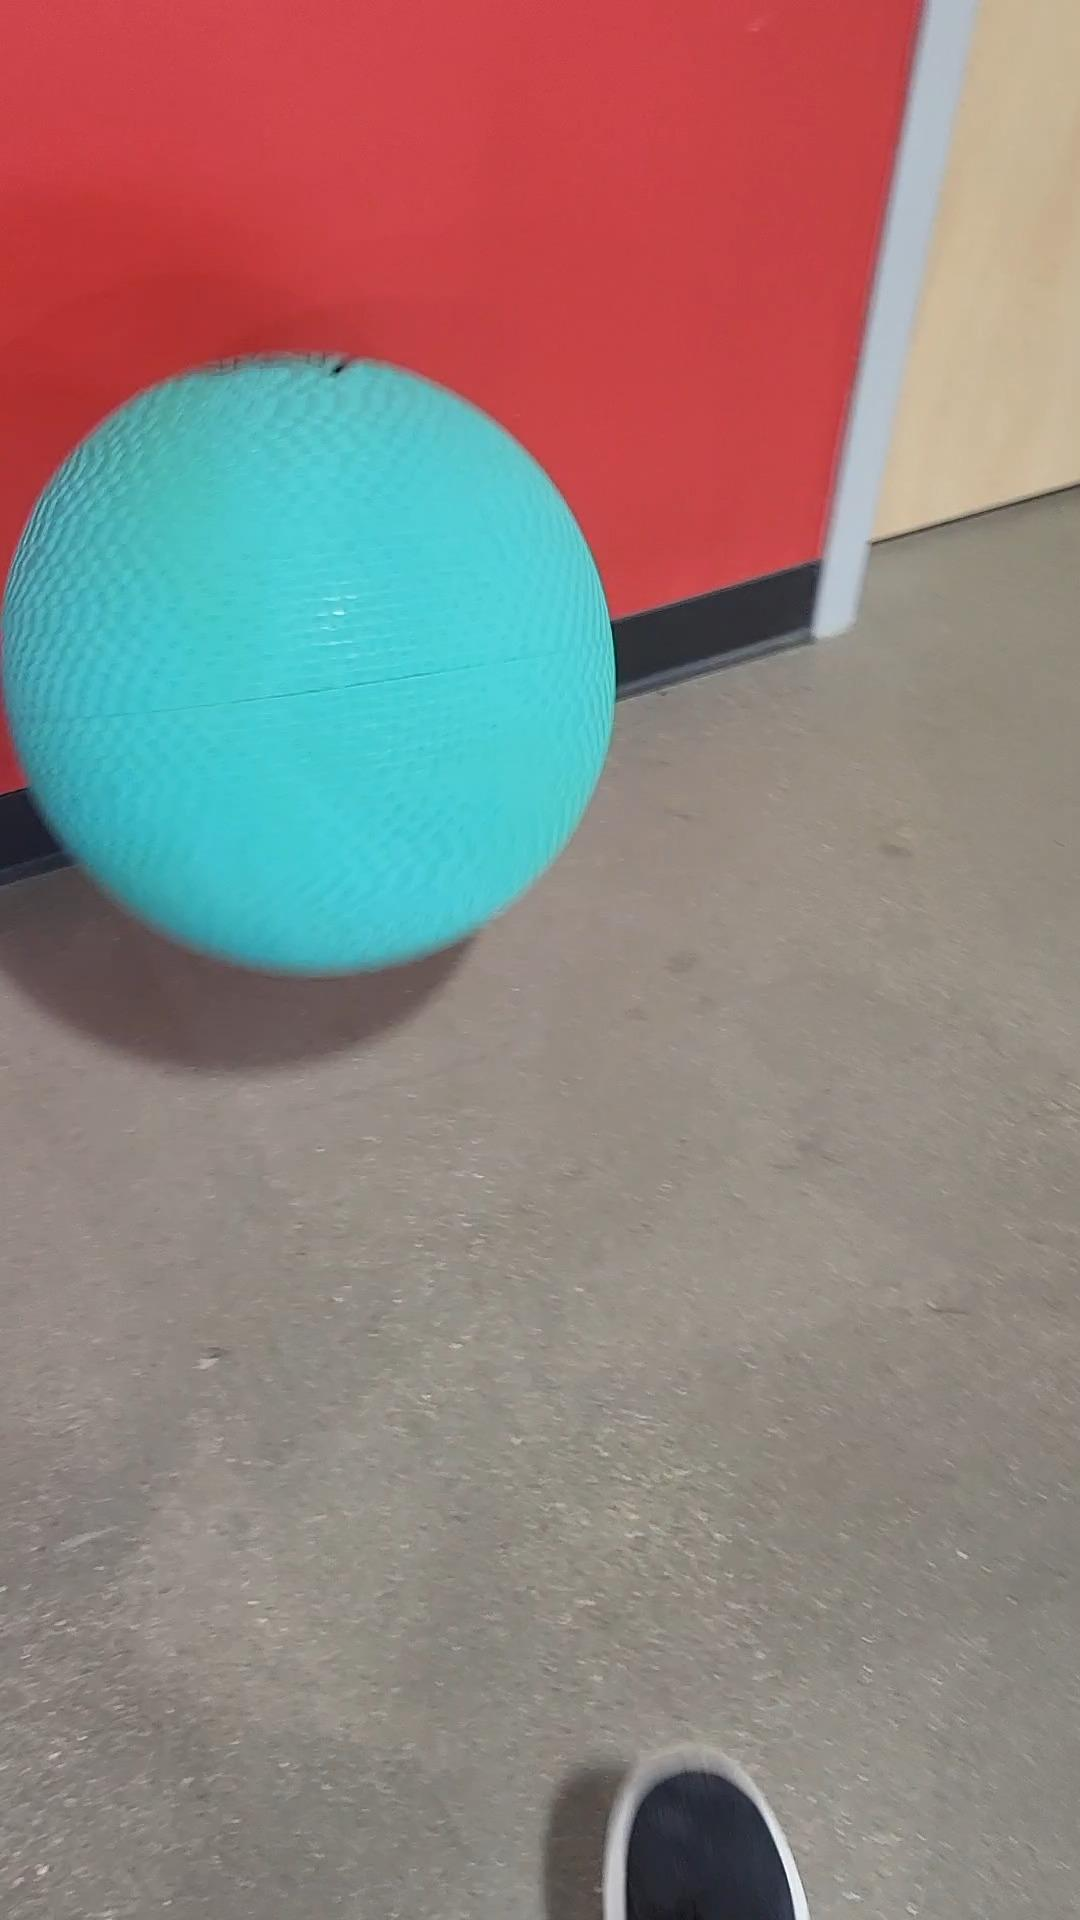algae: (0, 351, 622, 952)
